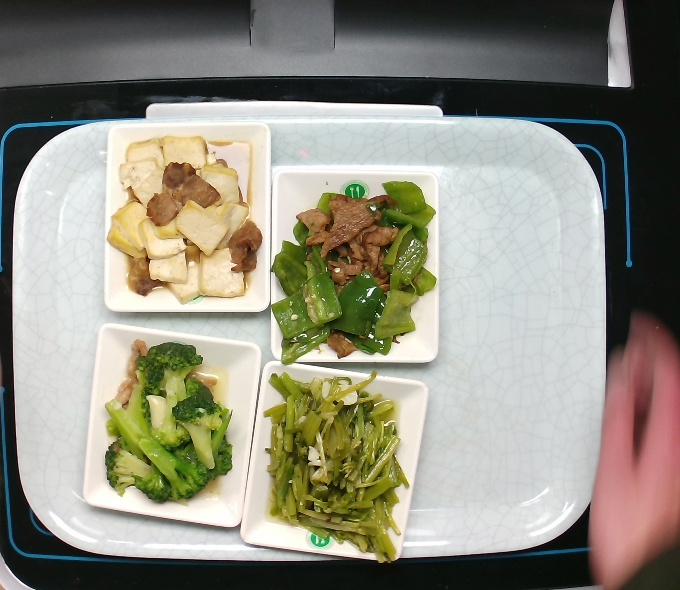wcq-DouFuRouPian: (104, 126, 269, 309)
wcq-QinCai: (249, 362, 408, 565)
wcq-QingJiaoChaoRou: (271, 173, 444, 358)
wcq-XiLanHua: (93, 335, 240, 514)
